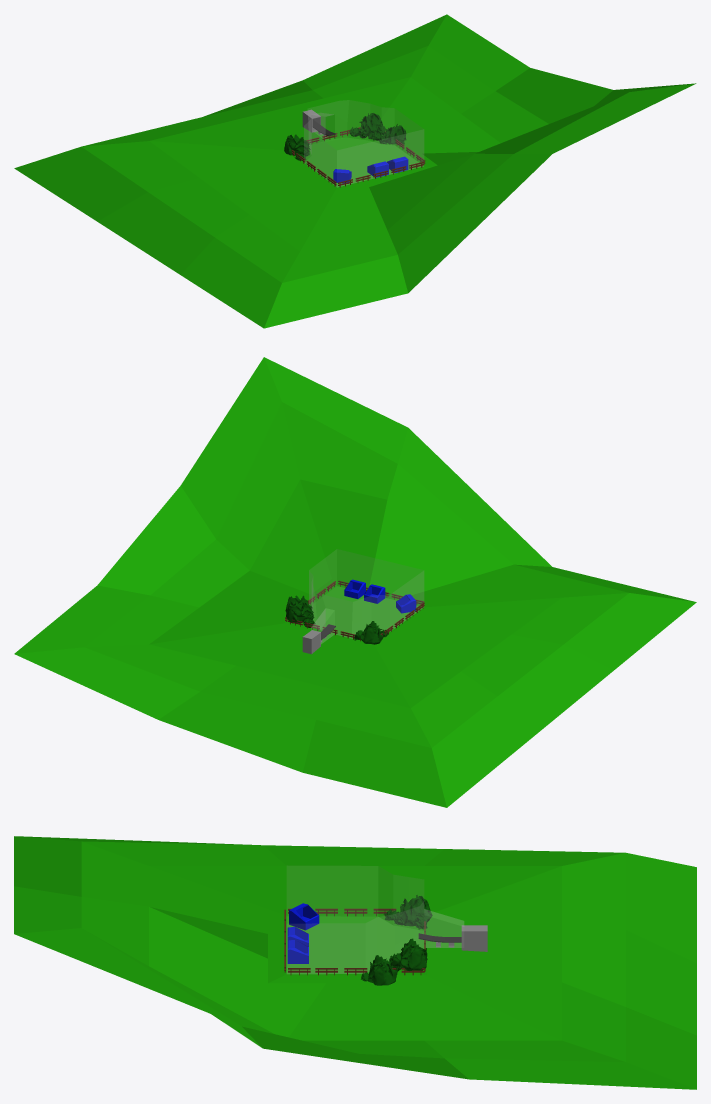
File: junked_demo_map.fbx
The picture shows the model from 3 angles, top to bottom: view 1: azimuth 30°, elevation 25°; view 2: azimuth 150°, elevation 25°; view 3: azimuth 270°, elevation 25°; orthographic projection. The views are drawn at different scales.
Parts seen in each view (by area): view 1: Ground, Bounds, Bushes, Fences; view 2: Ground, Bounds, Bushes, Fences; view 3: Ground, Bounds, Bushes, Fences, Spawner, Container.001, Container.002.
Boxes of the visible parts, box(x1,y1,x2,y2) form: Ground: box(14, 14, 696, 328); Bounds: box(304, 100, 423, 187); Bushes: box(284, 113, 406, 160); Fences: box(291, 127, 425, 187); Ground: box(14, 357, 696, 807); Bounds: box(309, 549, 423, 643); Bushes: box(285, 595, 388, 644); Fences: box(285, 580, 424, 641); Ground: box(14, 836, 696, 1089); Bounds: box(287, 866, 463, 973); Bushes: box(361, 895, 432, 985); Fences: box(284, 908, 425, 975); Spawner: box(418, 925, 487, 951); Container.001: box(289, 903, 319, 930); Container.002: box(287, 940, 308, 963).
Size of the model in its own units: 95.86 by 34.34 by 95.86.
